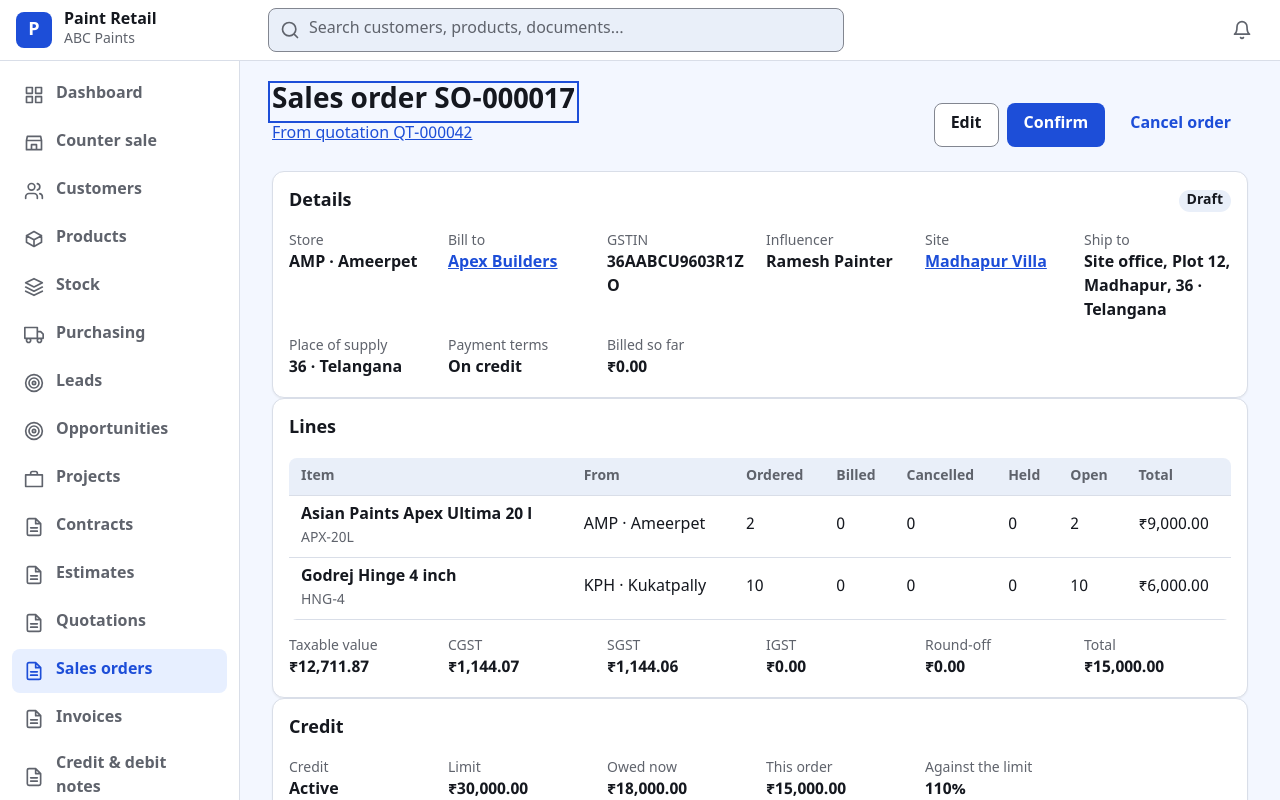
it: OrderPage: credit and confirm › shows the §7 demo (110 % of the limit) and lets the owner approve with a reason
This screenshot has width=1280, height=800.
Check: the heading "Sales order SO-000017" is shown, box [272, 85, 575, 119]
Click the button "Confirm" at (1056, 125), box [1006, 103, 1105, 147]
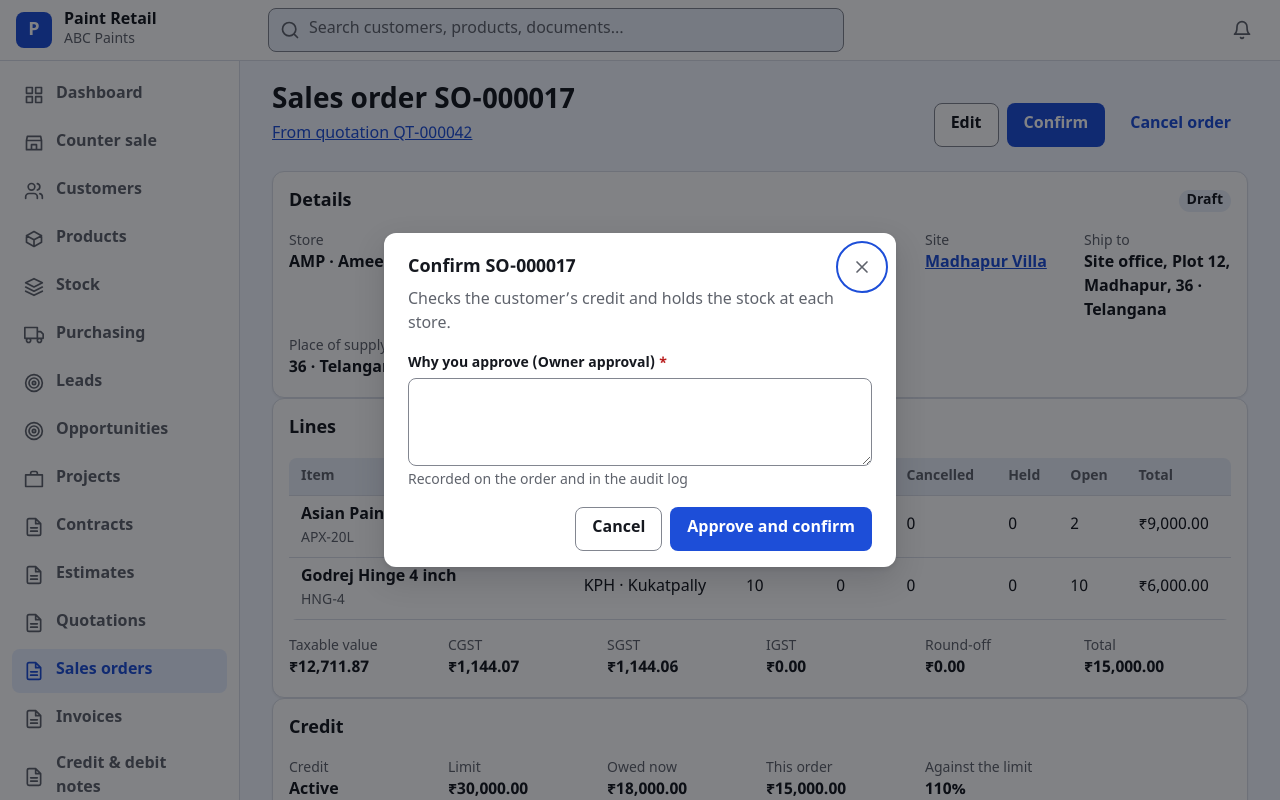
Click the button "Approve and confirm" at (771, 529), box [670, 507, 872, 551]
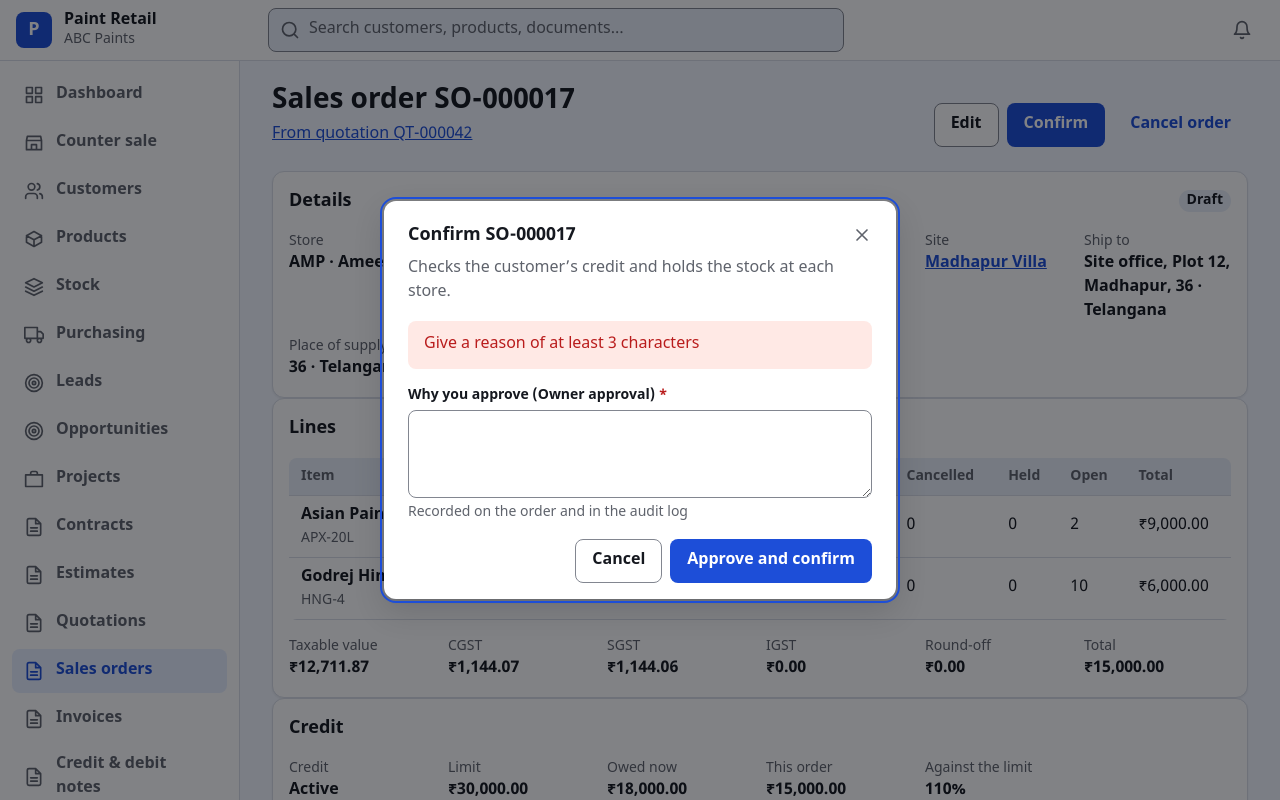
Check: the text "Give a reason of at least 3 characters" is shown, box [424, 333, 699, 357]
Type " Pays every month " into the text box labelled "Why you approve (Owner approval) *" at (640, 454), box [408, 410, 872, 498]
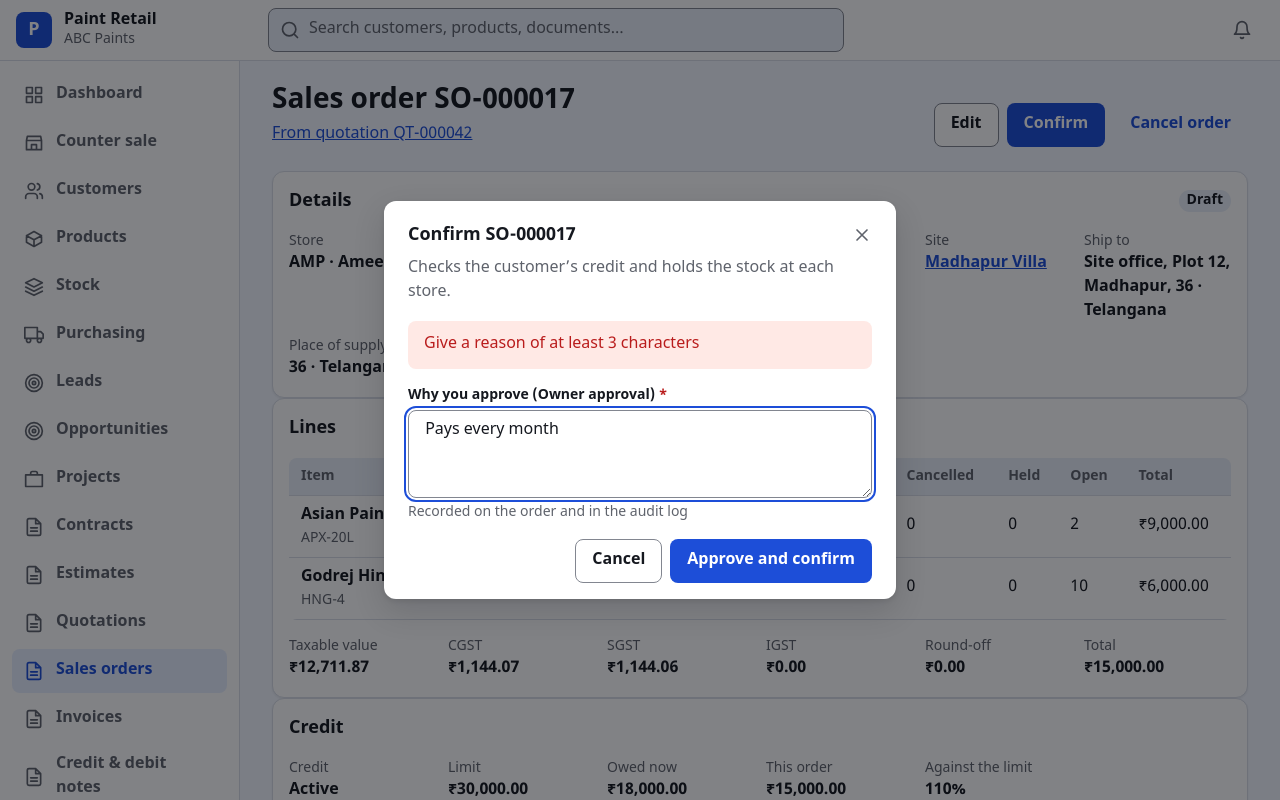
Click the button "Approve and confirm" at (771, 561), box [670, 539, 872, 583]
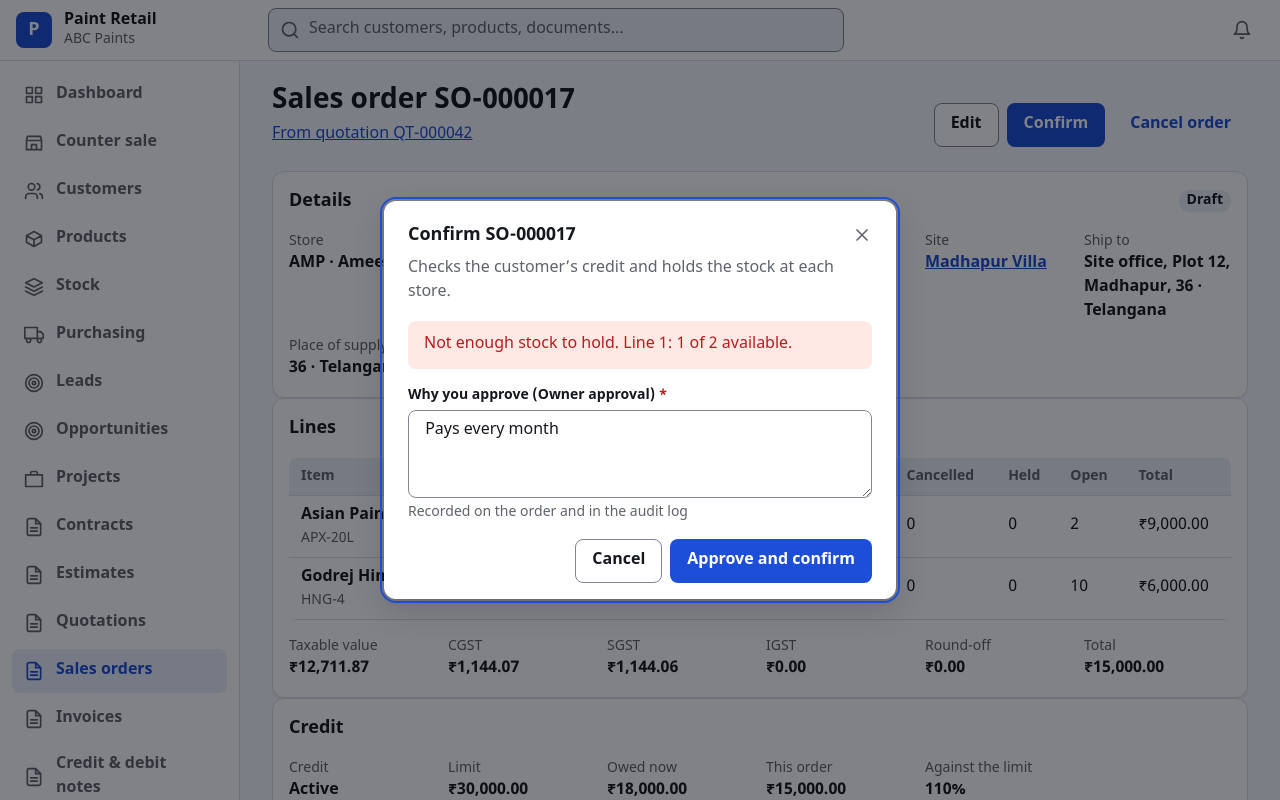
Check: the text "Not enough stock to hold. Line 1: 1 of 2 available." is shown, box [424, 333, 792, 357]
Click the button "Approve and confirm" at (771, 561), box [670, 539, 872, 583]
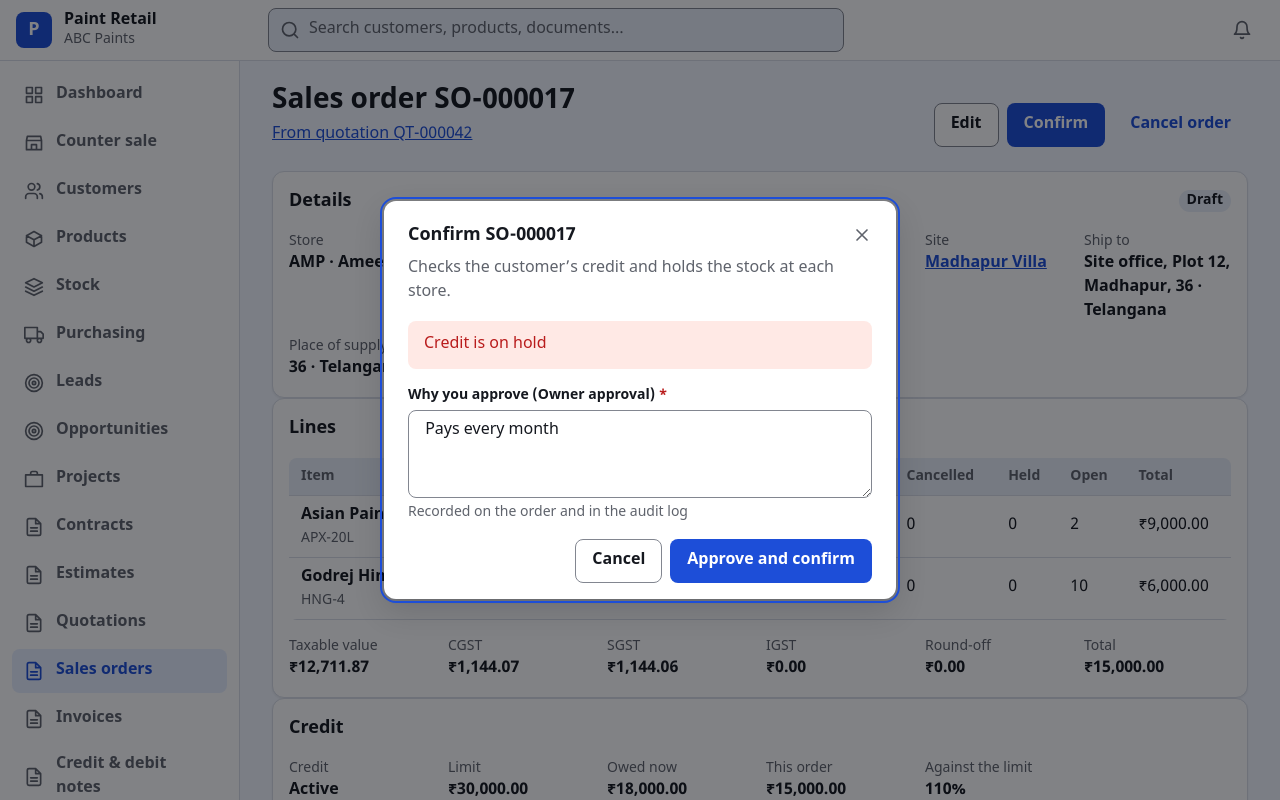
Check: the text "Credit is on hold" is shown, box [424, 333, 546, 357]
Click the button "Approve and confirm" at (771, 561), box [670, 539, 872, 583]
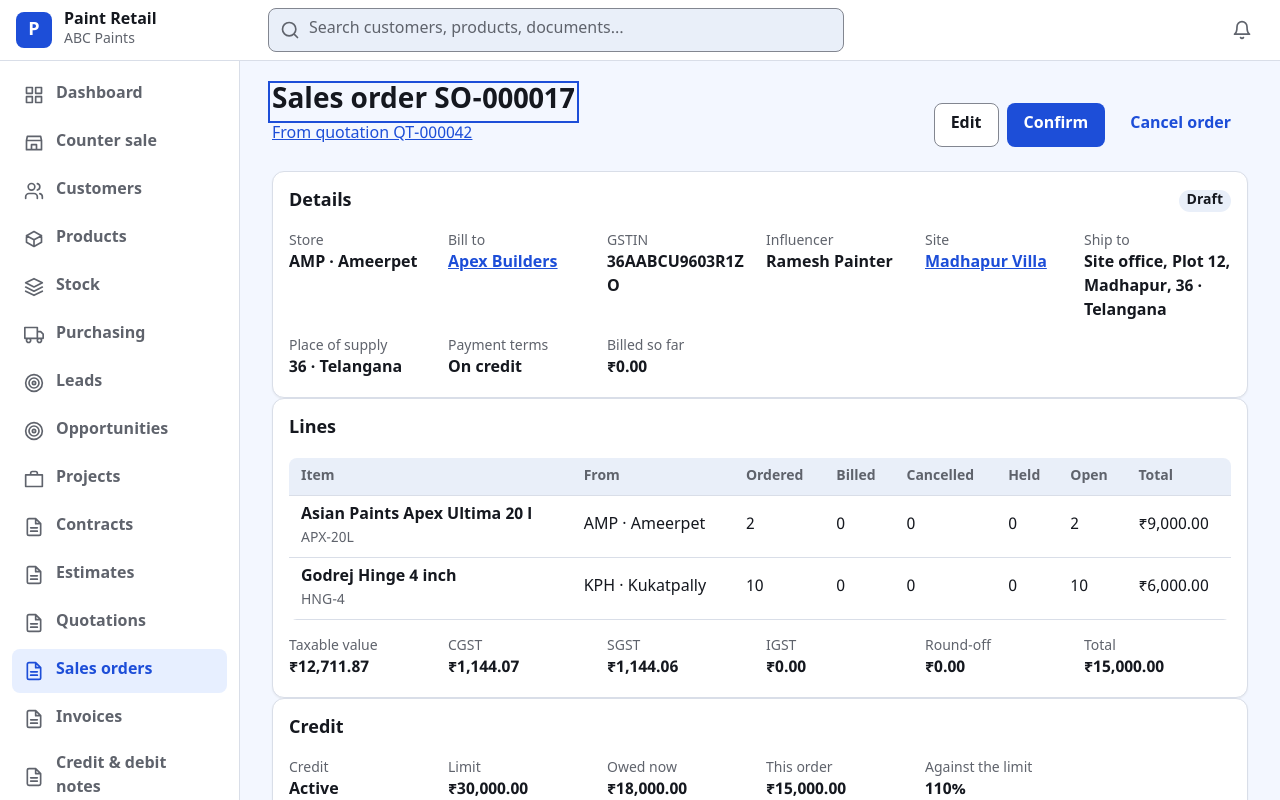
Check: the dialog is gone
